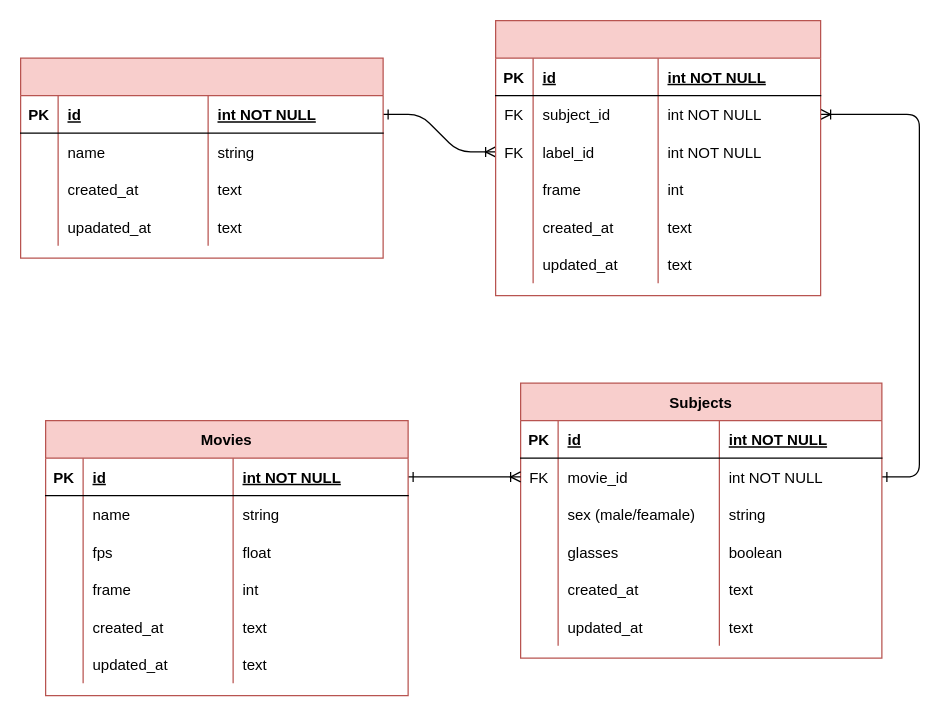
Image size: 940x716. Some labels were removed from this diagram. Here are the shapes that lost their labels. From the top down, the box of each, then its label:
(19, 57, 383, 258): Labels
(494, 19, 821, 296): Annotations
